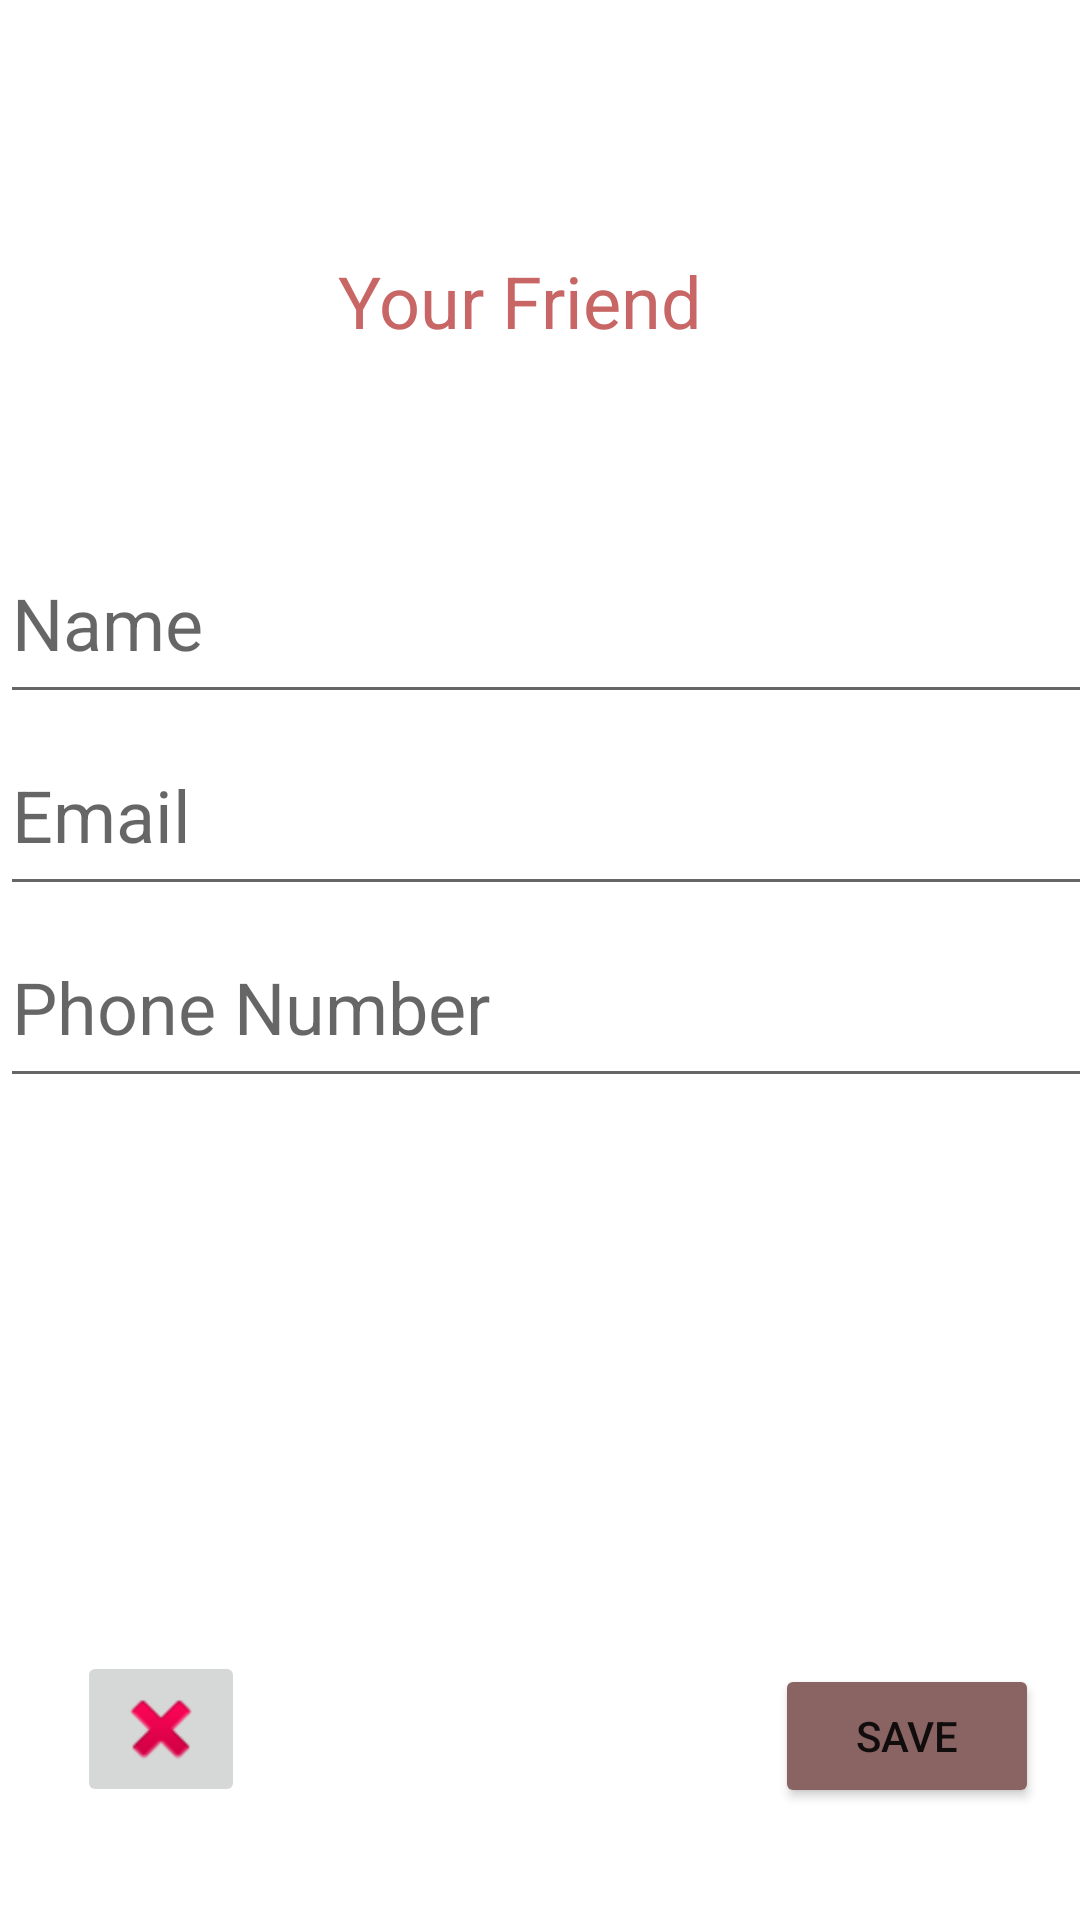

Screen size 1080px x 1920px. Icon name, then its box in pixels as (x1, y1, x2, y2):
delete: (89, 1669, 233, 1789)
